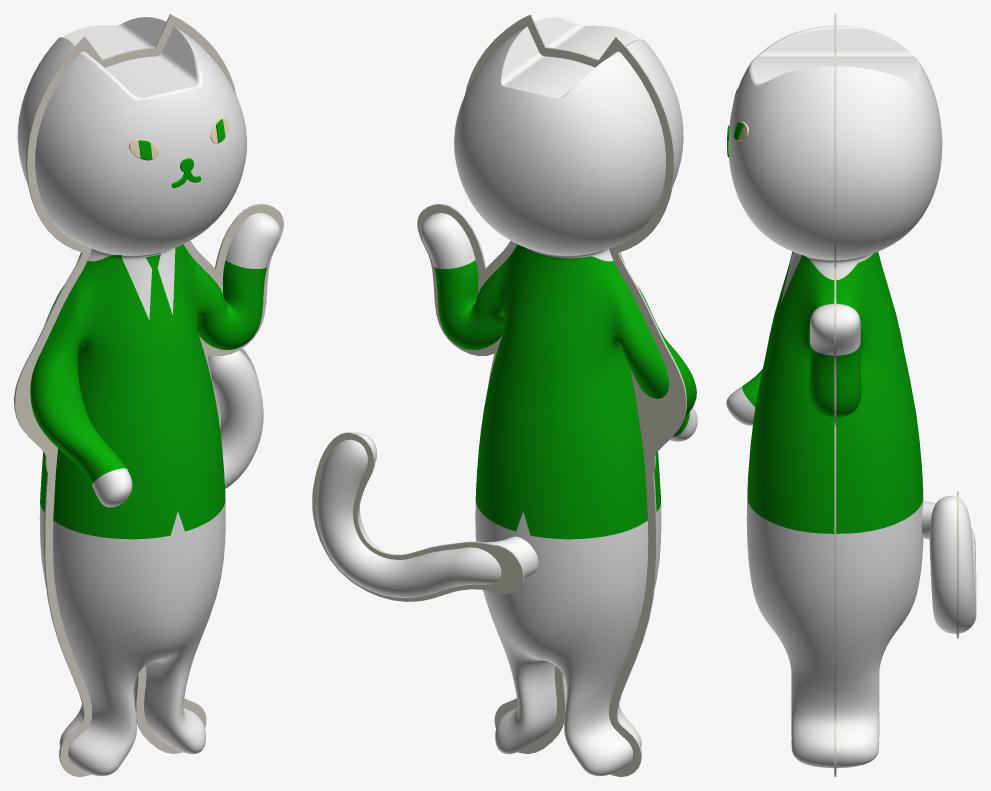
3 views of the same model, side by side, from view 1: azimuth 30°, elevation 25°; view 2: azimuth 150°, elevation 25°; view 3: azimuth 270°, elevation 25° (orthographic). The views are drawn at different scales.
Visible parts, largest first — view 1: 014_risona; view 2: 014_risona; view 3: 014_risona.
Boxes of the visible parts, bbox=[...] form: 014_risona: bbox=[14, 14, 283, 776]; 014_risona: bbox=[312, 14, 697, 776]; 014_risona: bbox=[726, 14, 976, 776].
Bounding box in the file's own units: 0.0792 × 0.1806 × 0.0571.
